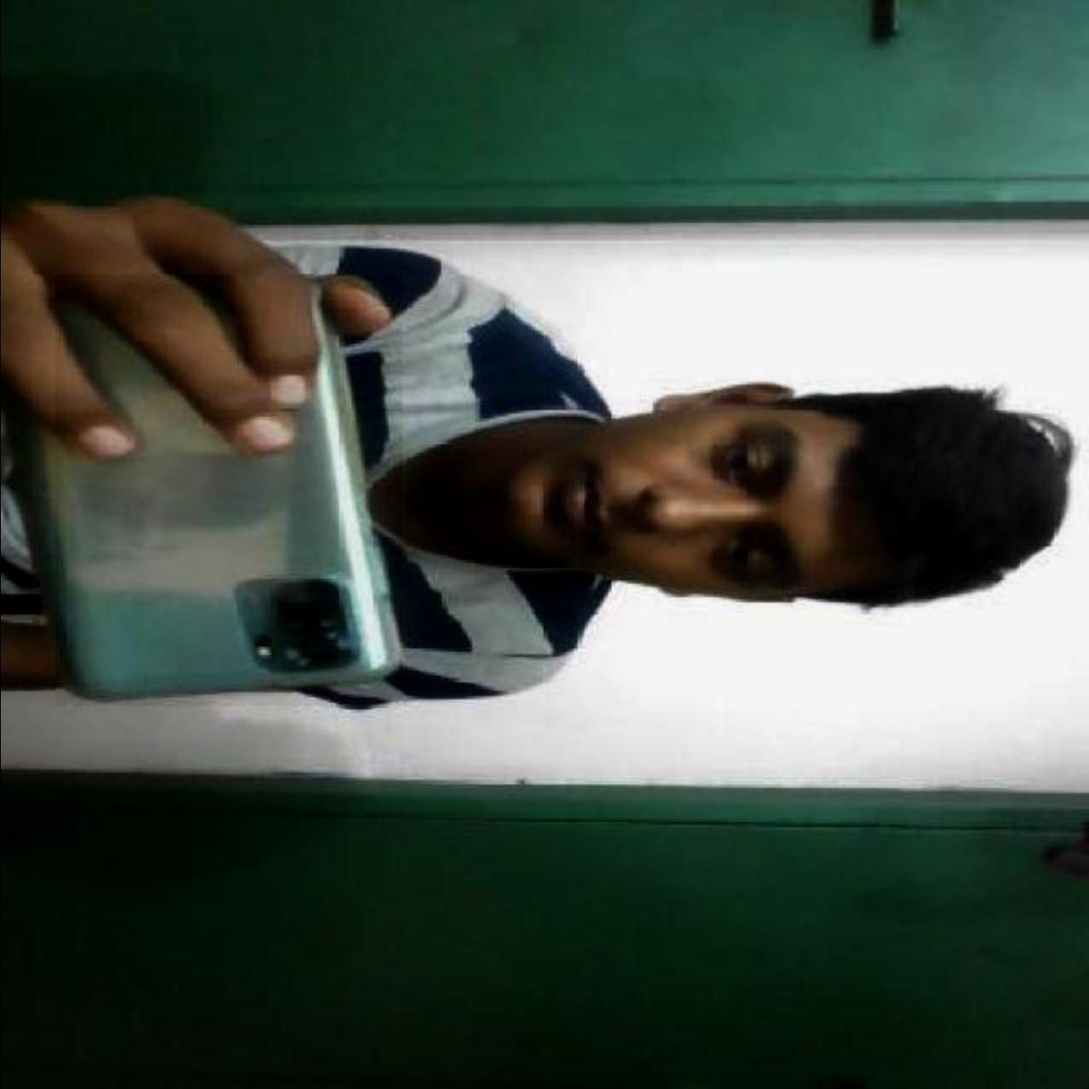phone: (54, 276, 402, 708)
